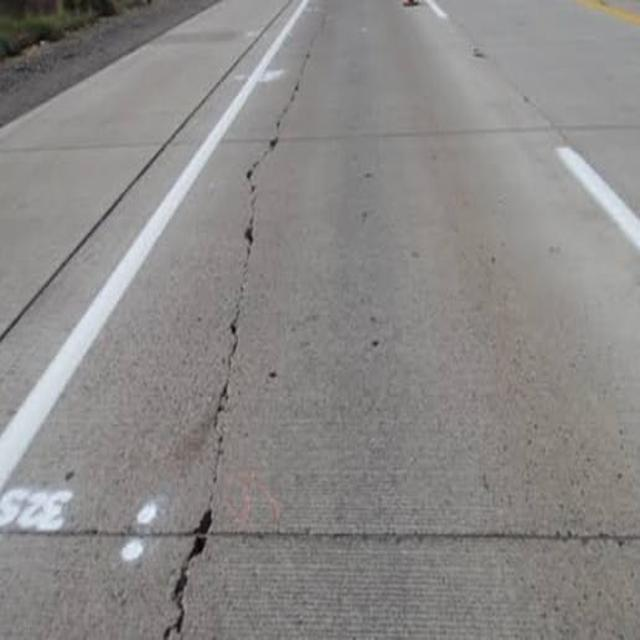Melintang: (0, 517, 640, 556)
Memanjang: (145, 30, 332, 640)
